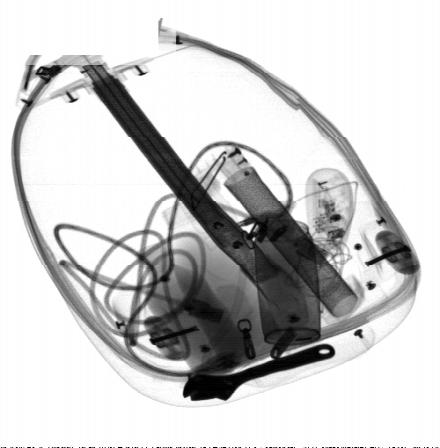Wrench: (182, 342, 336, 401)
